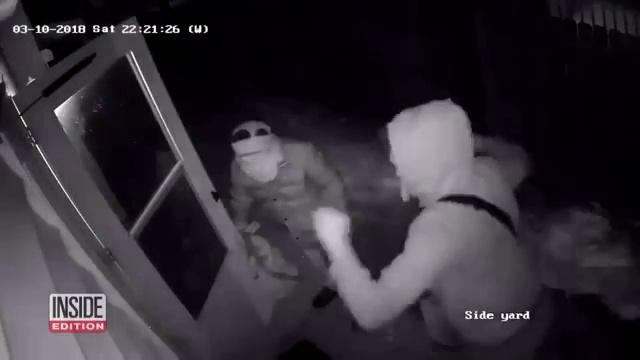suspicion: (303, 85, 562, 355), (215, 97, 351, 296)
